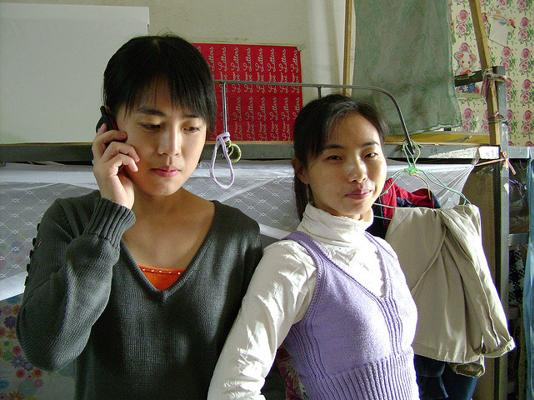person: (16, 36, 286, 400)
